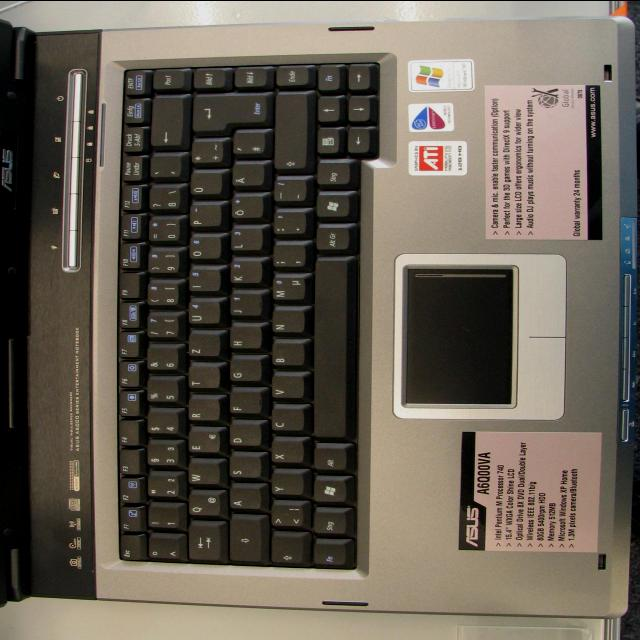0: (148, 219, 184, 243)
1: (147, 503, 185, 530)
2: (147, 472, 182, 498)
3: (146, 440, 182, 467)
4: (146, 409, 182, 435)
5: (145, 377, 181, 403)
6: (145, 345, 181, 372)
7: (145, 313, 181, 339)
8: (146, 281, 182, 307)
9: (146, 249, 182, 274)
a: (228, 484, 264, 511)
accent: (149, 155, 185, 179)
ae: (231, 163, 268, 188)
alt-left: (312, 446, 350, 472)
altgr-right: (314, 226, 352, 252)
b: (271, 341, 306, 367)
c: (270, 406, 306, 432)
caret: (147, 534, 185, 562)
comma: (272, 244, 308, 268)
d: (228, 421, 264, 447)
del: (150, 97, 186, 149)
e: (186, 427, 222, 454)
enter: (191, 93, 273, 133)
f: (228, 390, 264, 415)
g: (229, 358, 263, 382)
h: (228, 324, 263, 350)
hash: (232, 132, 268, 156)
i: (187, 268, 221, 292)
j: (228, 292, 264, 317)
k: (230, 260, 264, 284)
keyboard: (97, 53, 396, 579)
l: (229, 227, 265, 251)
less: (269, 501, 309, 529)
m: (272, 276, 308, 302)
minus: (273, 178, 309, 204)
n: (271, 308, 307, 334)
o: (188, 236, 222, 260)
oe: (231, 195, 265, 219)
p: (189, 204, 223, 229)
plus: (190, 140, 226, 165)
point: (272, 211, 308, 235)
q: (188, 490, 224, 518)
r: (187, 396, 221, 422)
s: (228, 453, 264, 479)
shift-left: (270, 532, 310, 566)
shift-lock: (228, 514, 266, 564)
shift-right: (273, 93, 311, 171)
space: (312, 258, 356, 440)
ss: (148, 186, 184, 212)
strg-left: (312, 507, 352, 537)
strg-right: (315, 161, 353, 187)
t: (187, 364, 221, 390)
tab: (187, 521, 224, 563)
u: (187, 300, 221, 326)
ue: (189, 172, 225, 196)
v: (270, 374, 306, 400)
w: (187, 459, 223, 486)
x: (269, 438, 307, 464)
y: (270, 470, 307, 497)
z: (187, 332, 221, 358)
